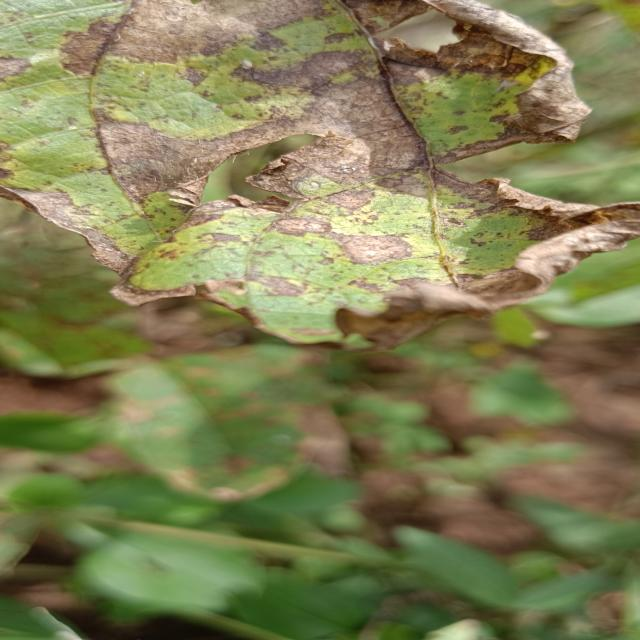Black gram_leaf spot: (0, 0, 640, 365), (84, 342, 294, 501)
